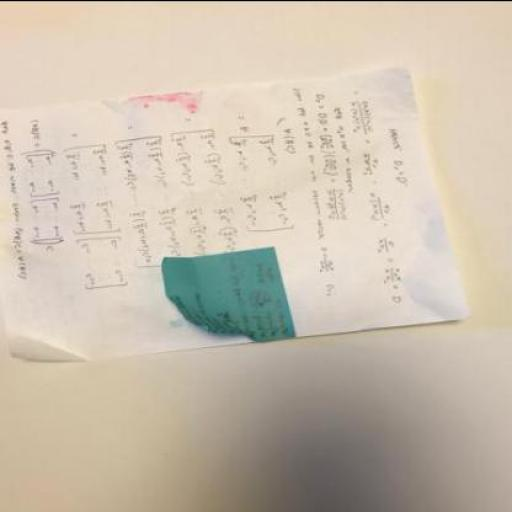paper: (0, 62, 471, 360)
